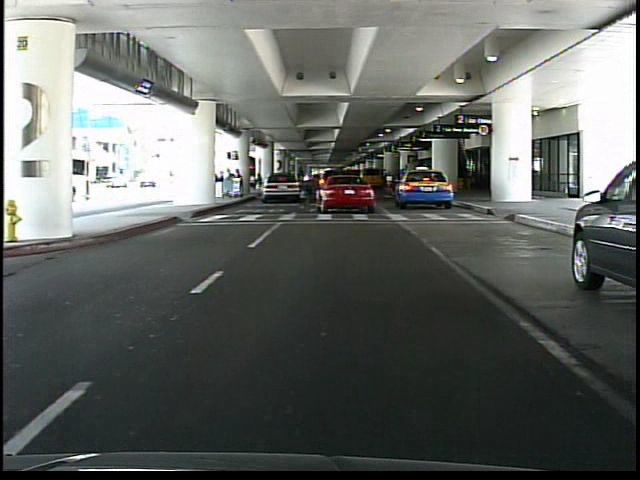person: (295, 165, 309, 201)
